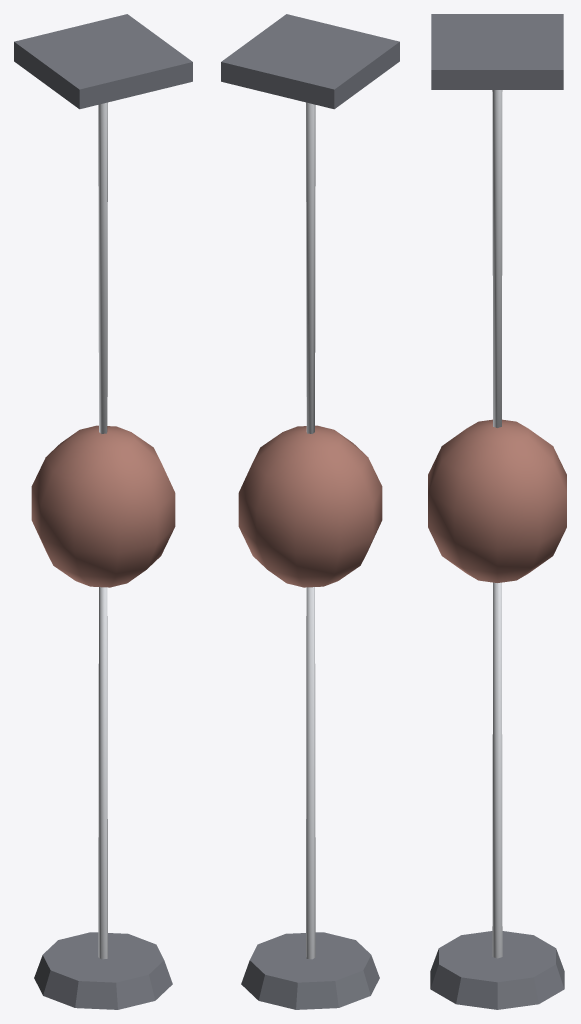
The model's file is double_end_bag.glb.
The picture shows the model from 3 angles, left to right: view 1: azimuth 30°, elevation 25°; view 2: azimuth 150°, elevation 25°; view 3: azimuth 270°, elevation 25°; orthographic projection.
Visible parts, largest first — view 1: double-end-bag; view 2: double-end-bag; view 3: double-end-bag.
Boxes of the visible parts, <box> form: double-end-bag: <box>14,14,192,1009</box>; double-end-bag: <box>221,14,399,1009</box>; double-end-bag: <box>428,14,566,1009</box>.
Size of the model in its own units: 0.3315 by 2.35 by 0.3152.
